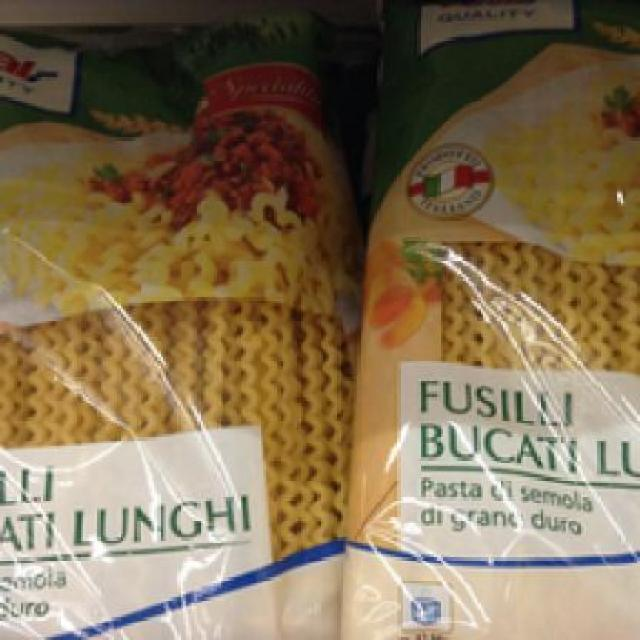Pasta: (0, 25, 360, 638), (346, 2, 634, 638)
